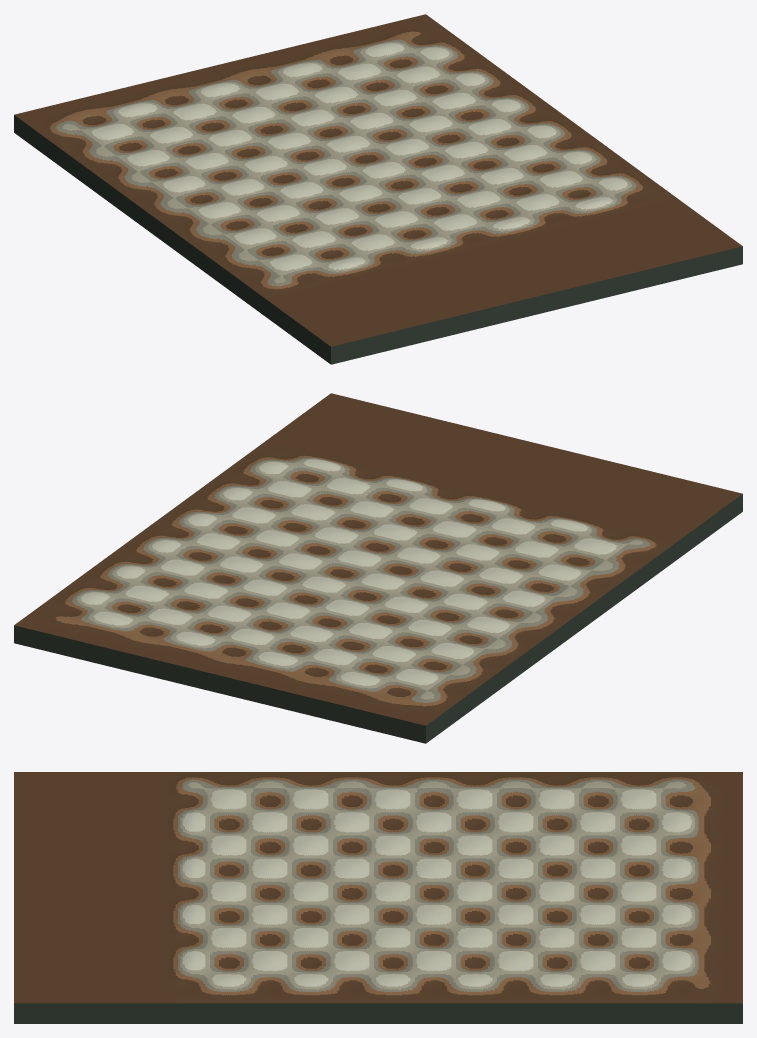
The model's file is caster_stress_saddle_l2.dae.
3 renders of one model, top to bottom at view 1: azimuth 30°, elevation 25°; view 2: azimuth 150°, elevation 25°; view 3: azimuth 270°, elevation 25°, orthographic. The views are drawn at different scales.
Visible parts, largest first — view 1: terrain_node; view 2: terrain_node; view 3: terrain_node.
Boxes of the visible parts, x1,y1,x2,y2 form: terrain_node: [14, 14, 742, 364]; terrain_node: [14, 393, 742, 743]; terrain_node: [14, 772, 742, 1023].
Bounding box in the file's own units: 6 × 8 × 0.3099.
